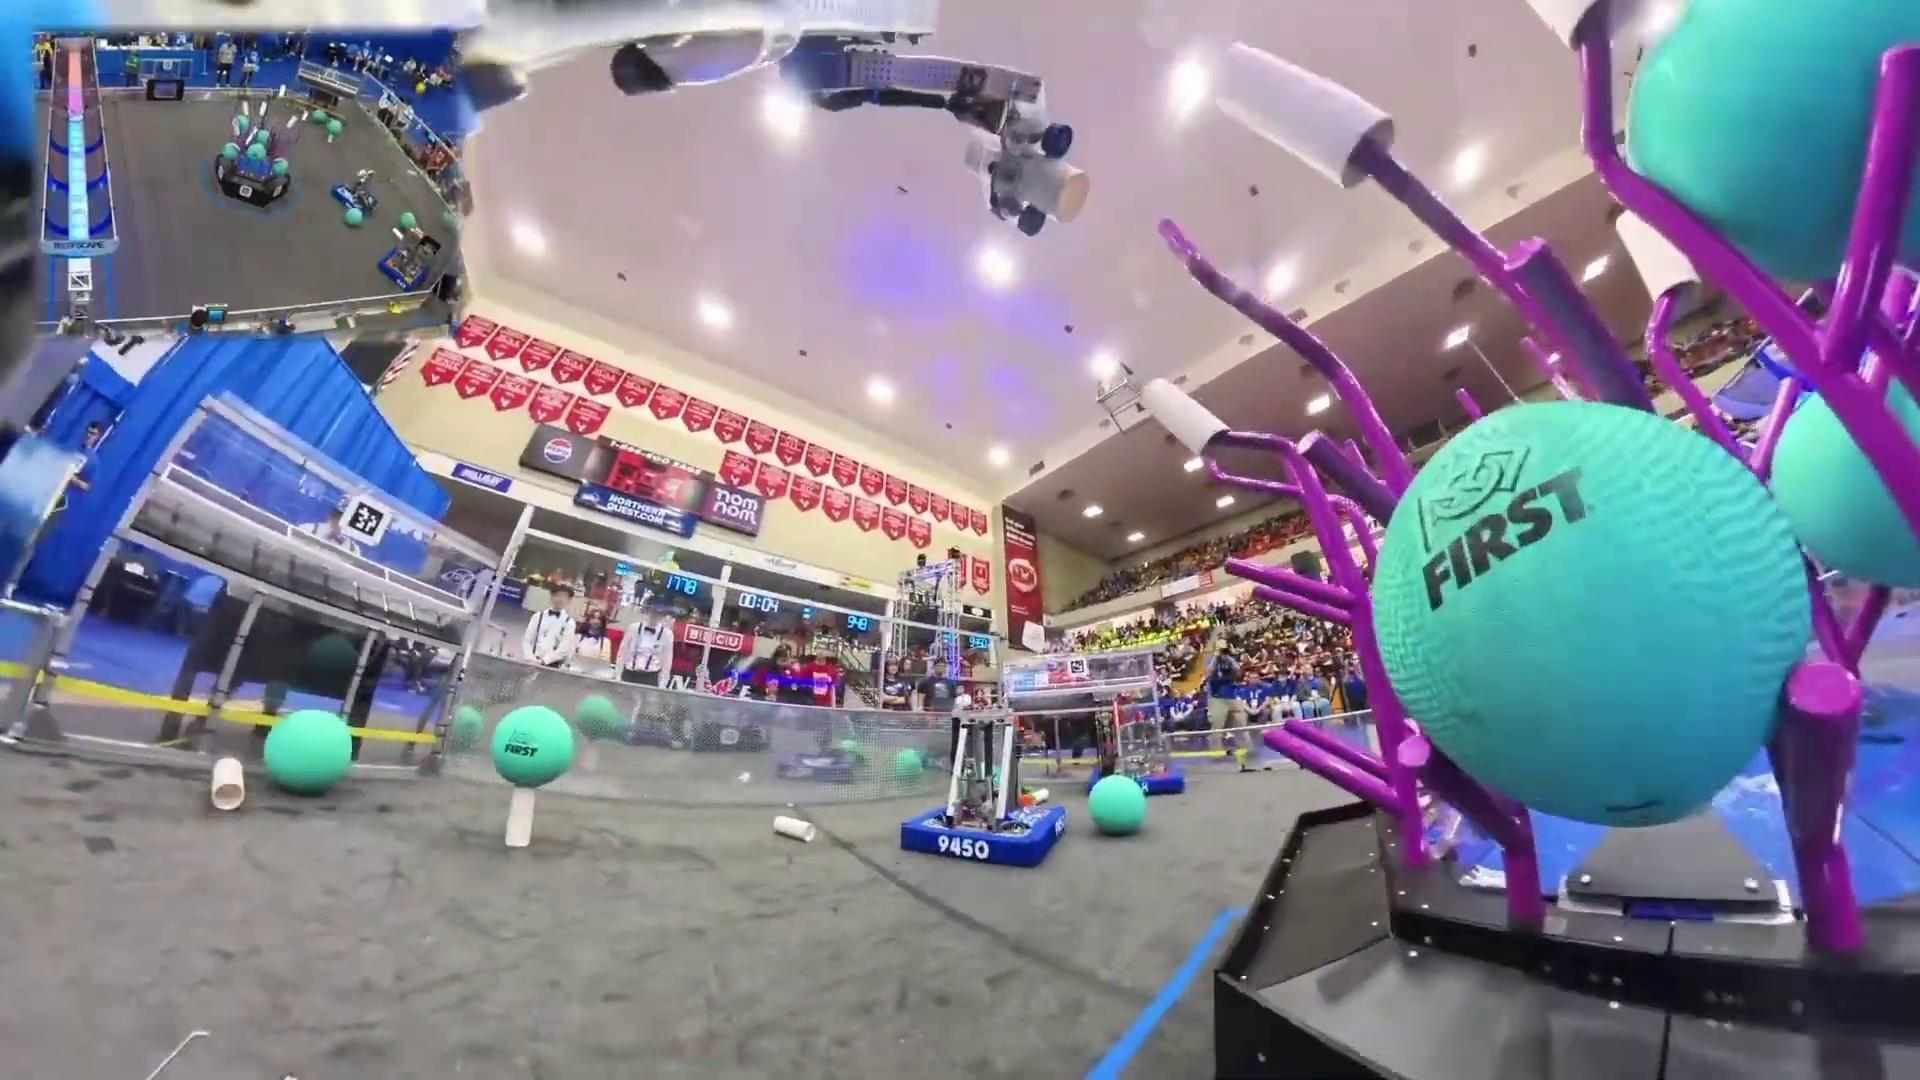robot: (899, 712, 1065, 868), (1085, 699, 1185, 799)
